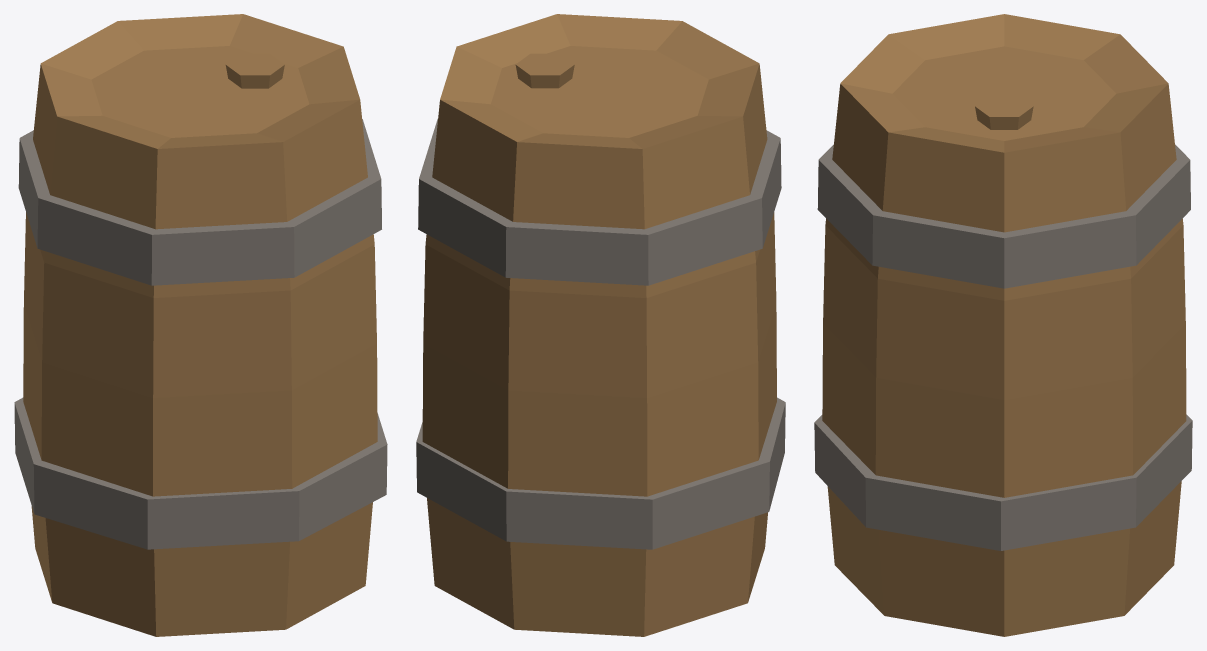
Rendered from barrel_01.fbx.
3 views of the same model, side by side, from view 1: azimuth 30°, elevation 25°; view 2: azimuth 150°, elevation 25°; view 3: azimuth 270°, elevation 25° (orthographic).
Visible parts, largest first — view 1: barrel_01; view 2: barrel_01; view 3: barrel_01.
Boxes of the visible parts, bbox=[...] form: barrel_01: bbox=[14, 14, 387, 636]; barrel_01: bbox=[416, 14, 785, 636]; barrel_01: bbox=[814, 14, 1192, 636].
Bounding box in the file's own units: 90.1 × 126 × 88.94.
